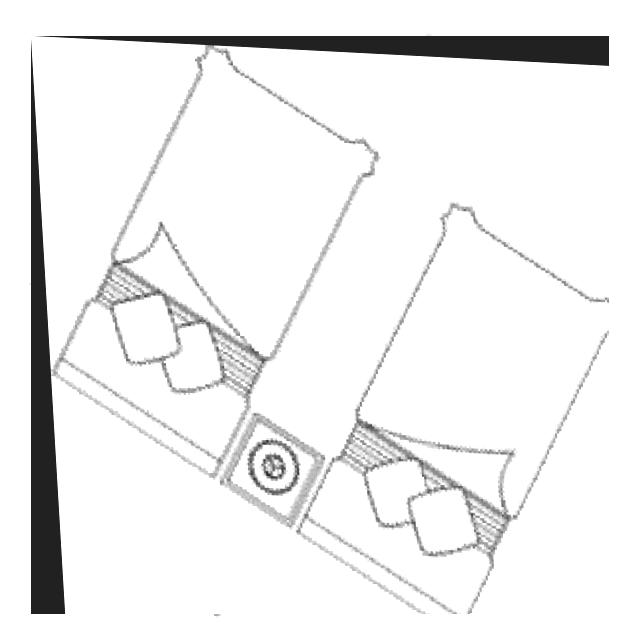bed: (31, 36, 609, 614)
